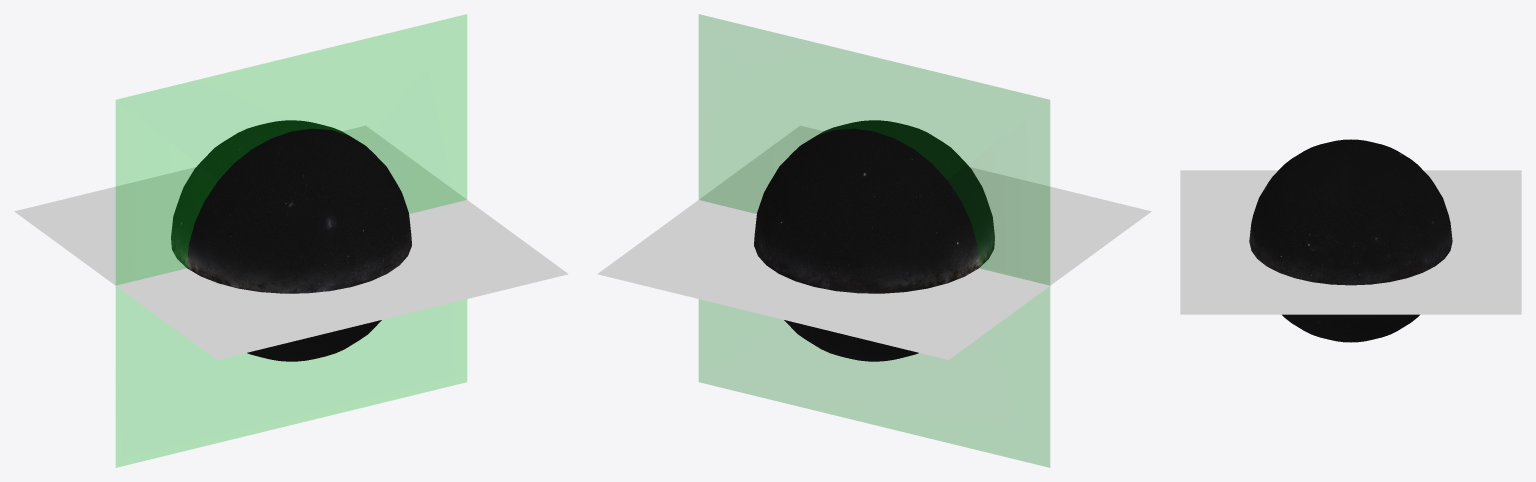
File: portal-6.glb
The picture shows the model from 3 angles, left to right: view 1: azimuth 30°, elevation 25°; view 2: azimuth 150°, elevation 25°; view 3: azimuth 270°, elevation 25°; orthographic projection. The views are drawn at different scales.
Visible parts, largest first — view 1: clip, skyOut, showIn, hideIn, skyIn; view 2: clip, skyIn, hideIn, showIn, skyOut; view 3: hideIn, showIn, skyOut, skyIn.
Part boxes in pixels (x1,y1,x2,y2): clip: (116, 14, 466, 467); skyOut: (187, 128, 411, 361); showIn: (116, 200, 568, 359); hideIn: (14, 125, 466, 285); skyIn: (171, 120, 348, 267); clip: (699, 14, 1049, 467); skyIn: (754, 128, 978, 361); hideIn: (597, 200, 1049, 359); showIn: (699, 125, 1151, 285); skyOut: (817, 120, 994, 267); hideIn: (1350, 170, 1521, 314); showIn: (1180, 170, 1350, 314); skyOut: (1249, 139, 1350, 342); skyIn: (1351, 139, 1452, 342).
Bounding box in the file's own units: 200 × 200 × 200.
11 materials, 4 textured.
